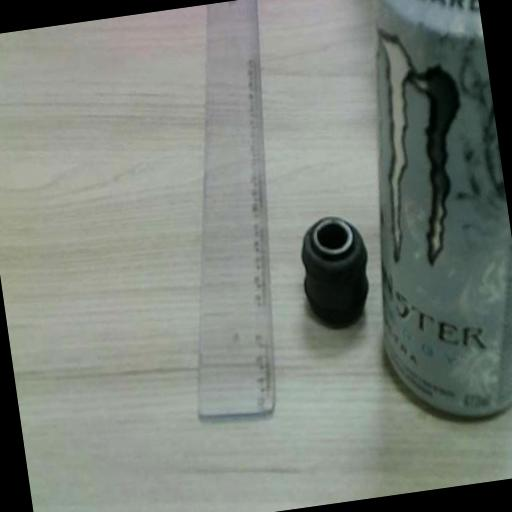peca: (301, 216, 368, 326)
